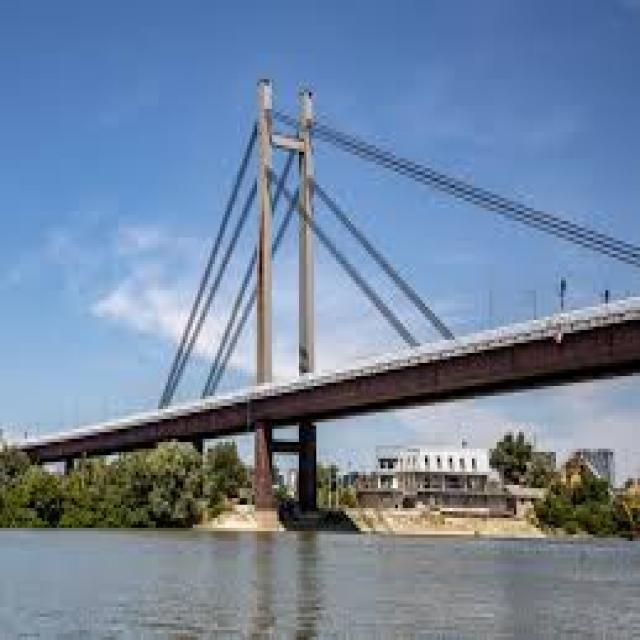Bridges: (4, 71, 640, 505)
